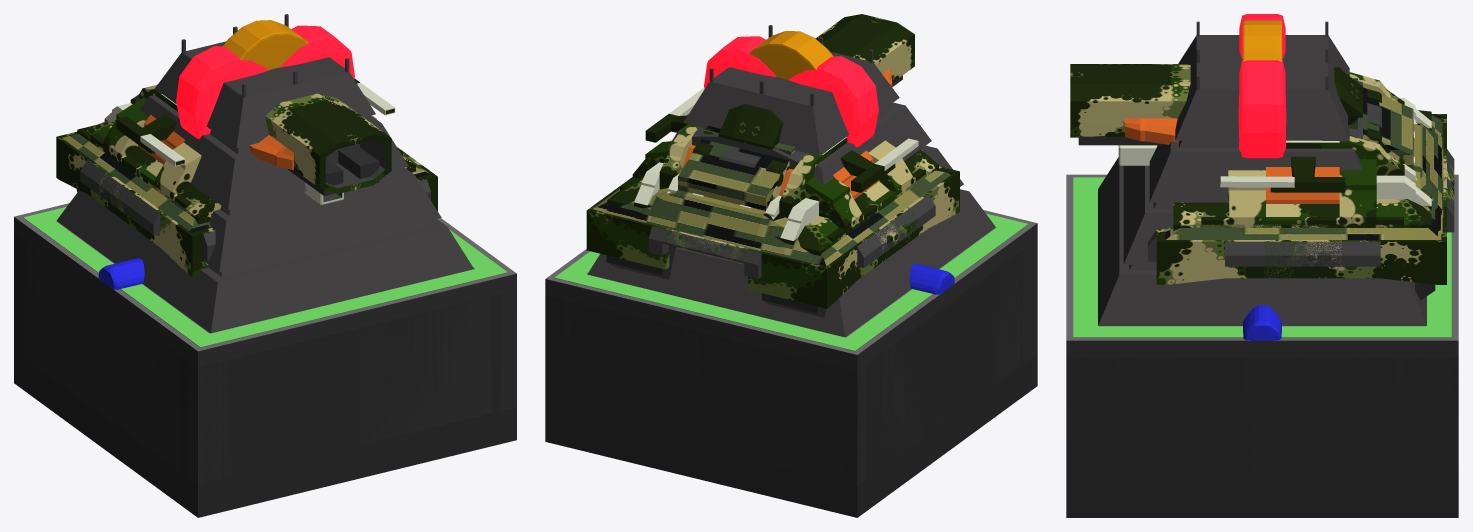
File: Kin3DPack.fbx
The picture shows the model from 3 angles, left to right: view 1: azimuth 30°, elevation 25°; view 2: azimuth 150°, elevation 25°; view 3: azimuth 270°, elevation 25°; orthographic projection. The views are drawn at different scales.
Visible parts, largest first — view 1: TileBonus, Wall, Tile1, TankTop1, TankTop2, Heart, Tank, Weapon, Bar; view 2: TileBonus, Tile1, Wall, TankTop1, Tank, TankTop2, Heart, Weapon, Bar; view 3: TileBonus, Wall, TankTop1, Tile1, TankTop2, Tank, Heart, Weapon, Bar.
Part boxes in pixels (x1=…): TileBonus: x1=14, y1=206, x2=516, y2=517; Wall: x1=57, y1=14, x2=473, y2=333; Tile1: x1=14, y1=203, x2=516, y2=484; TankTop1: x1=56, y1=93, x2=437, y2=277; TankTop2: x1=90, y1=78, x2=402, y2=232; Heart: x1=176, y1=25, x2=354, y2=139; Tank: x1=62, y1=84, x2=430, y2=232; Weapon: x1=222, y1=20, x2=308, y2=69; Bar: x1=98, y1=258, x2=144, y2=289; TileBonus: x1=545, y1=213, x2=1037, y2=517; Tile1: x1=545, y1=210, x2=1037, y2=485; Wall: x1=587, y1=25, x2=995, y2=337; TankTop1: x1=586, y1=14, x2=959, y2=308; Tank: x1=592, y1=75, x2=952, y2=317; TankTop2: x1=620, y1=88, x2=925, y2=266; Heart: x1=704, y1=36, x2=878, y2=147; Weapon: x1=749, y1=31, x2=833, y2=79; Bar: x1=909, y1=263, x2=954, y2=294; TileBonus: x1=1066, y1=177, x2=1458, y2=517; Wall: x1=1098, y1=21, x2=1426, y2=325; TankTop1: x1=1070, y1=64, x2=1454, y2=284; Tile1: x1=1066, y1=174, x2=1458, y2=482; TankTop2: x1=1118, y1=72, x2=1454, y2=278; Tank: x1=1078, y1=78, x2=1443, y2=300; Heart: x1=1238, y1=14, x2=1286, y2=158; Weapon: x1=1243, y1=20, x2=1281, y2=61; Bar: x1=1243, y1=304, x2=1281, y2=340.
Bounding box in the file's own units: 100 × 115 × 100.
28 materials, 6 textured.
